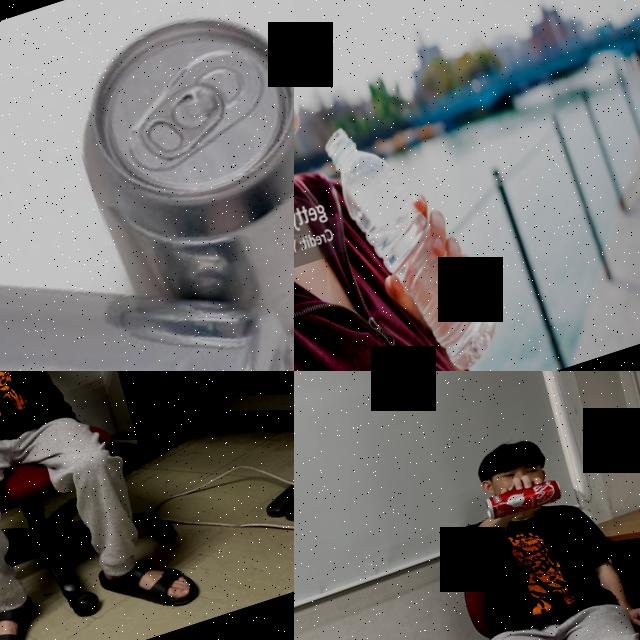bottle: (319, 99, 511, 371)
can: (47, 0, 294, 371), (0, 185, 294, 371), (482, 476, 564, 522)
